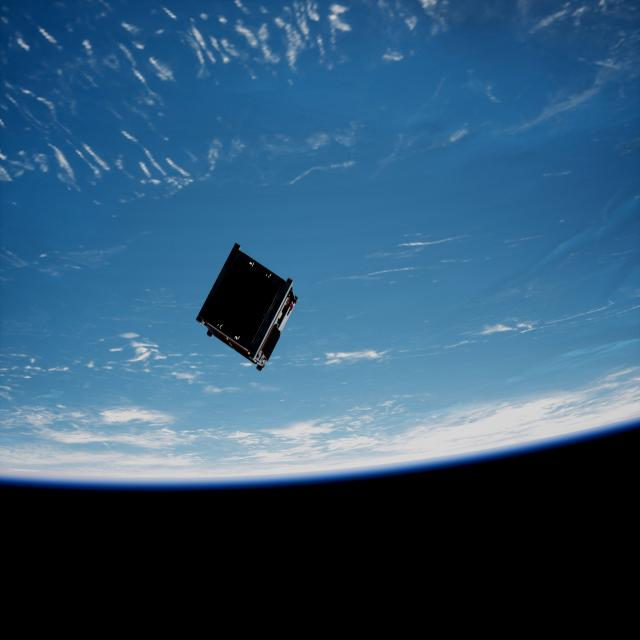medium_debris: (192, 239, 302, 372)
